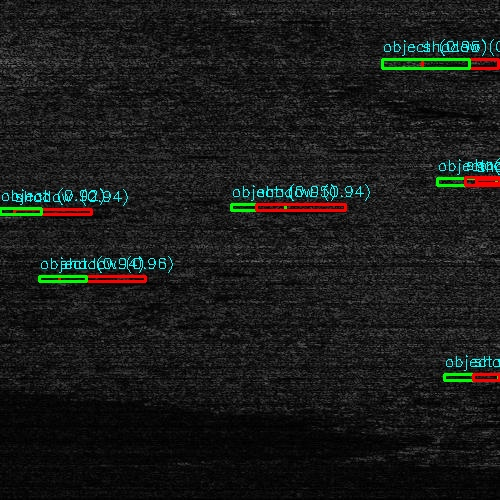rock: (377, 59, 470, 68), (446, 178, 499, 185), (229, 205, 282, 210), (446, 375, 499, 380), (0, 209, 43, 214), (40, 276, 81, 281)
shadow: (424, 59, 498, 68), (61, 276, 145, 281), (256, 205, 338, 210), (12, 209, 90, 214), (473, 178, 500, 185), (473, 375, 500, 380)
